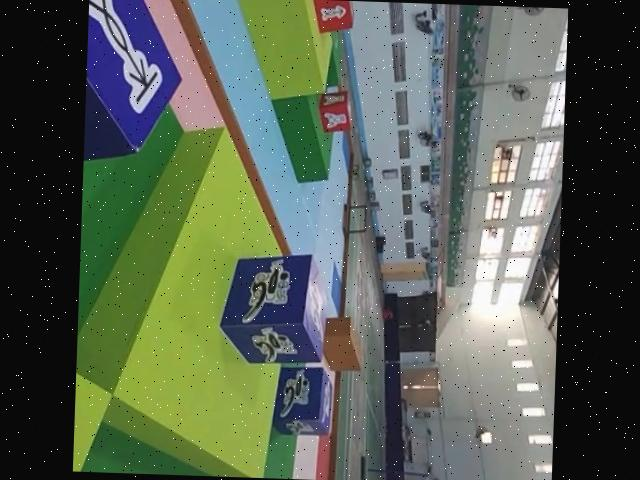R1 Blue: (217, 250, 328, 367), (269, 361, 332, 435)
R2 Real Blue: (82, 0, 183, 163)
